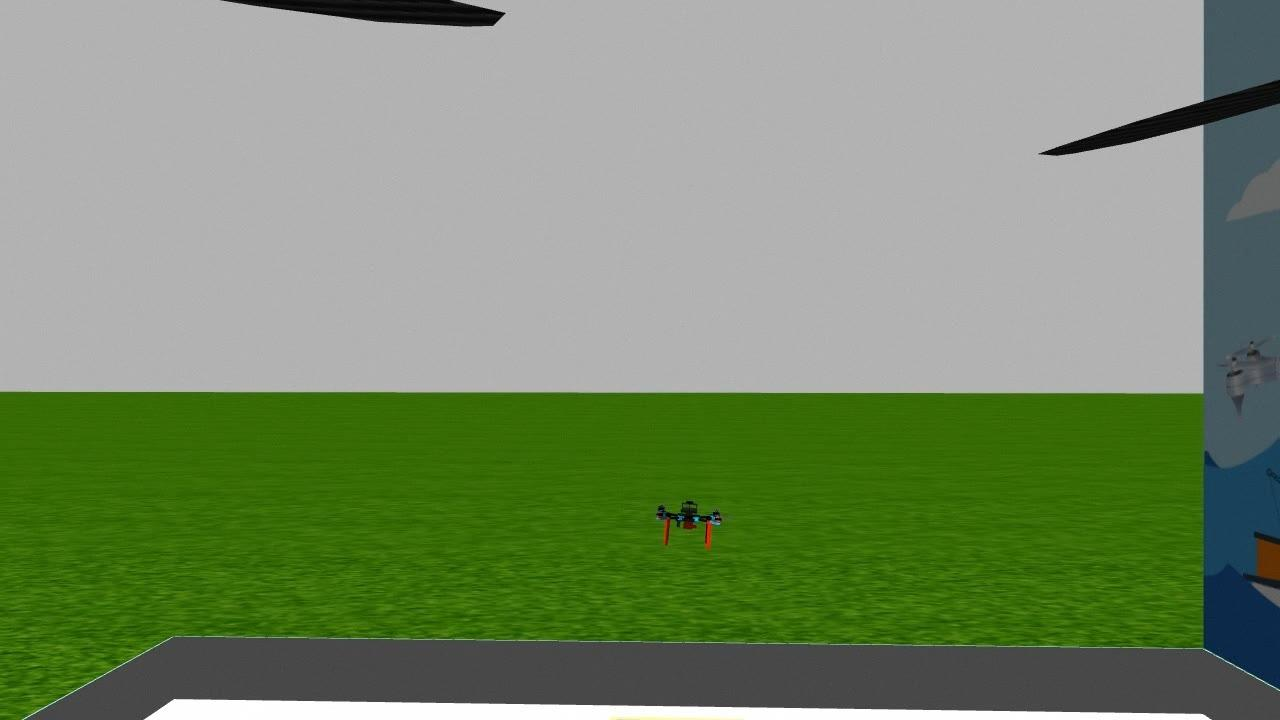UAV: (646, 492, 736, 552)
